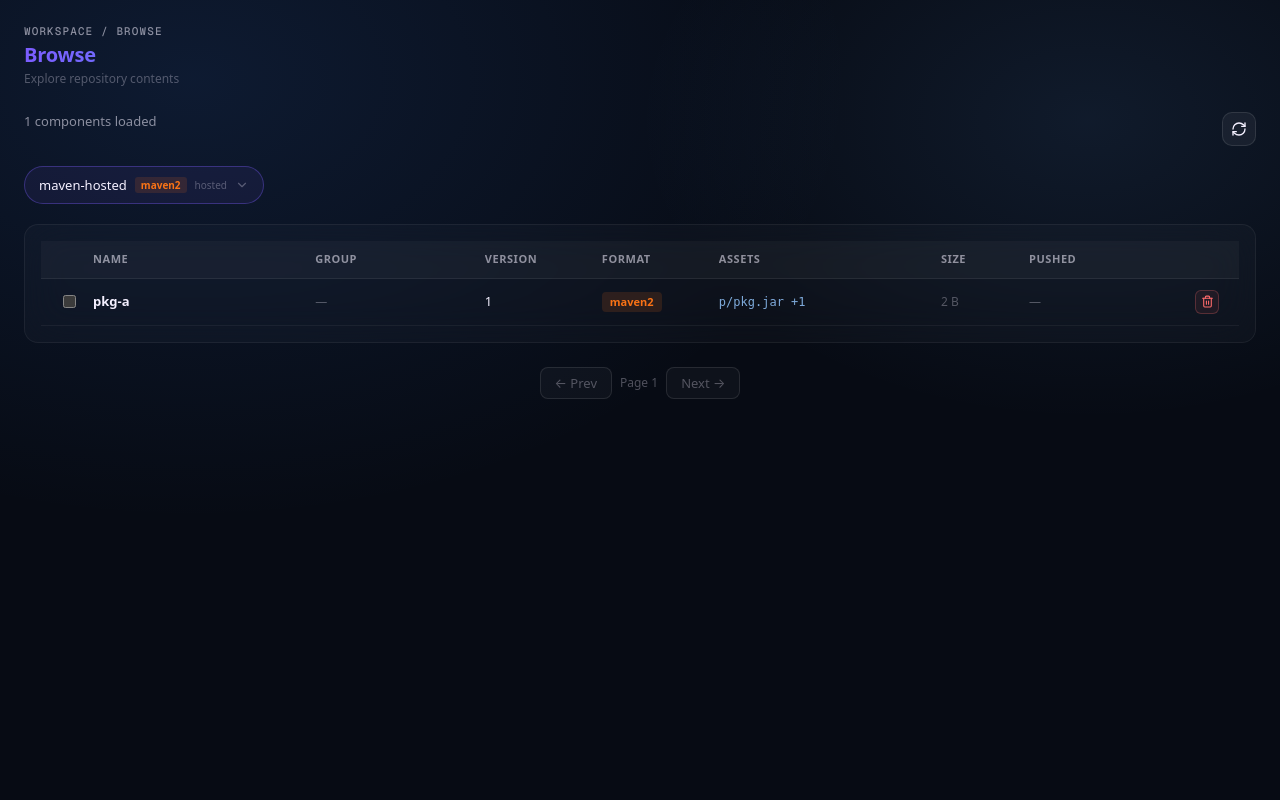
Test: BrowsePage — bulk delete invalidates on partial failure › refreshes the component list when a later delete in the batch fails
Expected: the text "pkg-a" is shown, [93,292,130,310]
Click the button titled "Delete" at (1207, 302), box [1195,290,1219,314]
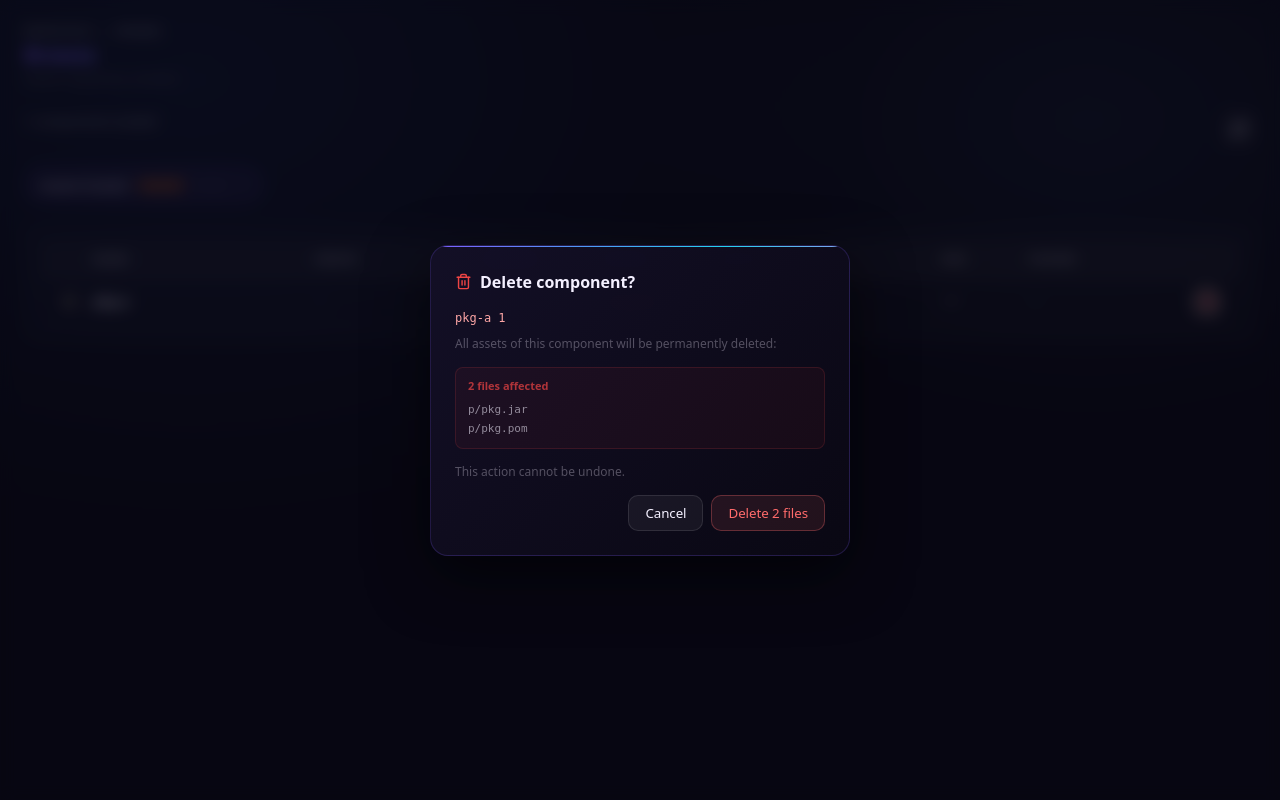
Expected: the heading "Delete component?" is shown, [455,270,635,292]
Click the button "Delete 2 files" at (768, 512), box [712,494,825,530]
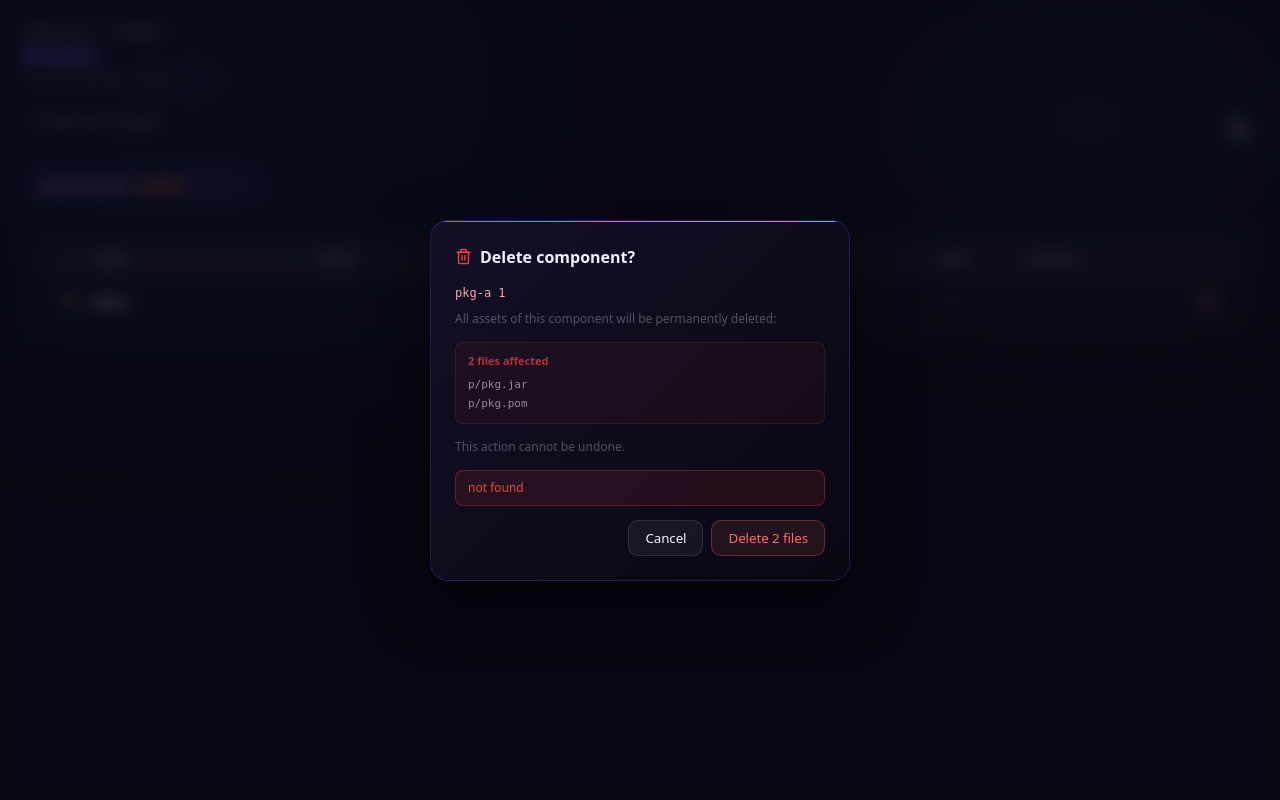
Expected: the text "not found" is shown, [455,470,825,506]
